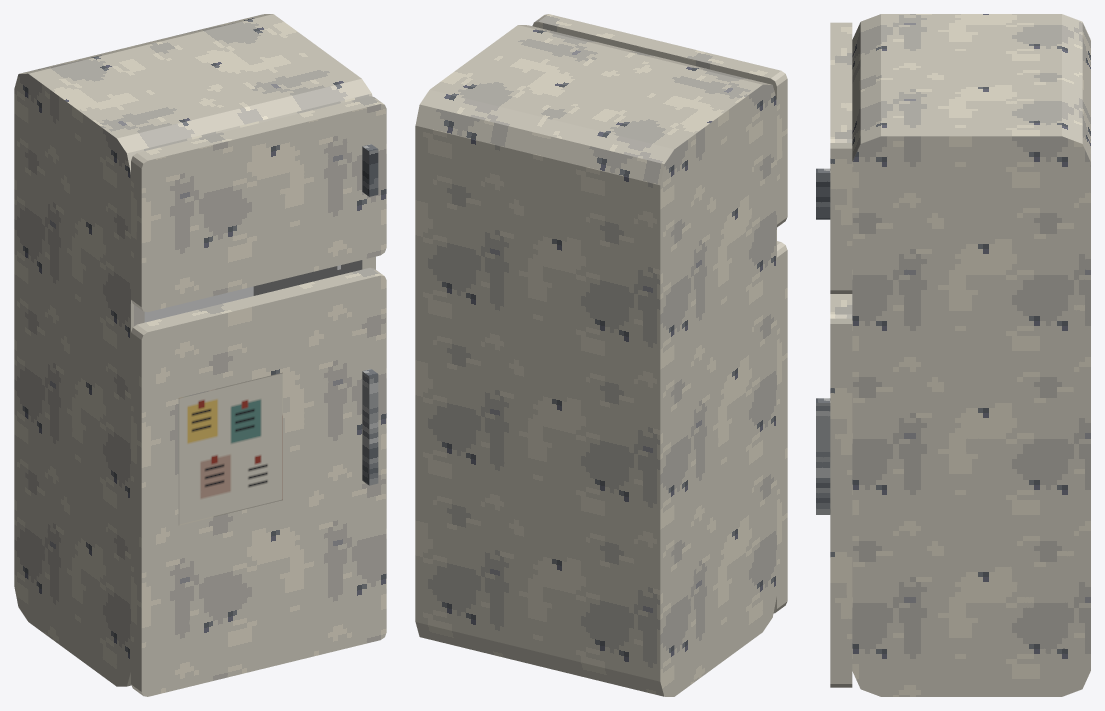
File: RES_Fridge_TopFreezer.obj
3 views of the same model, side by side, from view 1: azimuth 30°, elevation 25°; view 2: azimuth 150°, elevation 25°; view 3: azimuth 270°, elevation 25° (orthographic). The views are drawn at different scales.
Parts seen in each view (by area): view 1: RES_Fridge_TopFreezer_Mesh_M_Town_PaintWhite, INT_ApplianceDoor_Fridge_M_Town_PaintWhite, INT_ApplianceDoor_Freezer_M_Town_PaintWhite, INT_ApplianceDoor_Fridge_M_Res_DetailAtlas, RES_Fridge_TopFreezer_Mesh_M_Res_Porcelain, INT_ApplianceDoor_Fridge_M_Furn_MetalBrushed, INT_ApplianceDoor_Freezer_M_Furn_MetalBrushed; view 2: RES_Fridge_TopFreezer_Mesh_M_Town_PaintWhite, INT_ApplianceDoor_Freezer_M_Town_PaintWhite, INT_ApplianceDoor_Fridge_M_Town_PaintWhite; view 3: RES_Fridge_TopFreezer_Mesh_M_Town_PaintWhite, INT_ApplianceDoor_Fridge_M_Town_PaintWhite, INT_ApplianceDoor_Freezer_M_Town_PaintWhite, INT_ApplianceDoor_Fridge_M_Furn_MetalBrushed, INT_ApplianceDoor_Freezer_M_Furn_MetalBrushed.
Boxes of the visible parts, x1,y1,x2,y2 form: RES_Fridge_TopFreezer_Mesh_M_Town_PaintWhite: (14,14,375,686); INT_ApplianceDoor_Fridge_M_Town_PaintWhite: (131,267,386,696); INT_ApplianceDoor_Freezer_M_Town_PaintWhite: (131,96,386,312); INT_ApplianceDoor_Fridge_M_Res_DetailAtlas: (178,372,282,525); RES_Fridge_TopFreezer_Mesh_M_Res_Porcelain: (144,260,362,322); INT_ApplianceDoor_Fridge_M_Furn_MetalBrushed: (362,369,378,485); INT_ApplianceDoor_Freezer_M_Furn_MetalBrushed: (362,144,378,196); RES_Fridge_TopFreezer_Mesh_M_Town_PaintWhite: (415,25,776,696); INT_ApplianceDoor_Freezer_M_Town_PaintWhite: (532,14,787,227); INT_ApplianceDoor_Fridge_M_Town_PaintWhite: (773,241,787,613); RES_Fridge_TopFreezer_Mesh_M_Town_PaintWhite: (852,14,1090,696); INT_ApplianceDoor_Fridge_M_Town_PaintWhite: (830,294,852,687); INT_ApplianceDoor_Freezer_M_Town_PaintWhite: (830,22,852,293); INT_ApplianceDoor_Fridge_M_Furn_MetalBrushed: (816,398,830,514); INT_ApplianceDoor_Freezer_M_Furn_MetalBrushed: (816,168,830,219).
Bounding box in the file's own units: 0.8 × 1.71 × 0.76.
